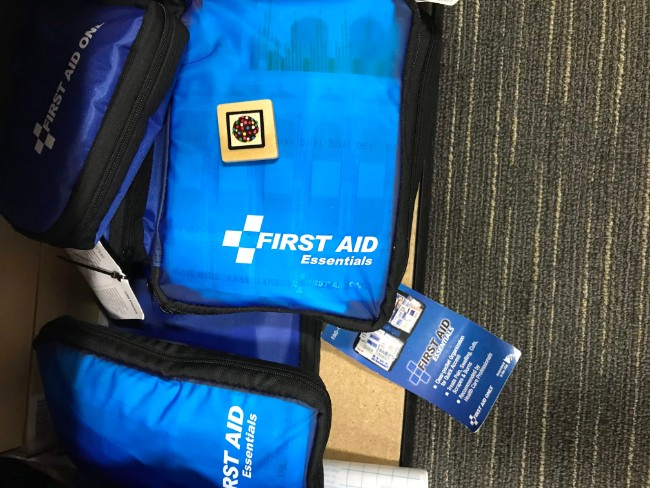cookie: (214, 98, 281, 164)
